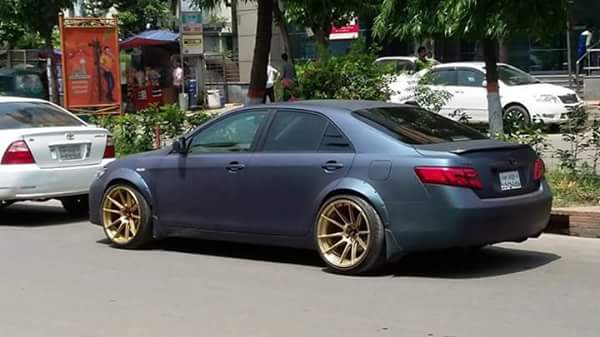registration_plate: (498, 170, 522, 192), (58, 144, 82, 160)
